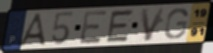5: (50, 10, 76, 46)
A: (17, 12, 49, 47)
E: (104, 8, 136, 44), (79, 10, 109, 46)
G: (163, 7, 190, 41)
V: (139, 6, 167, 43)
